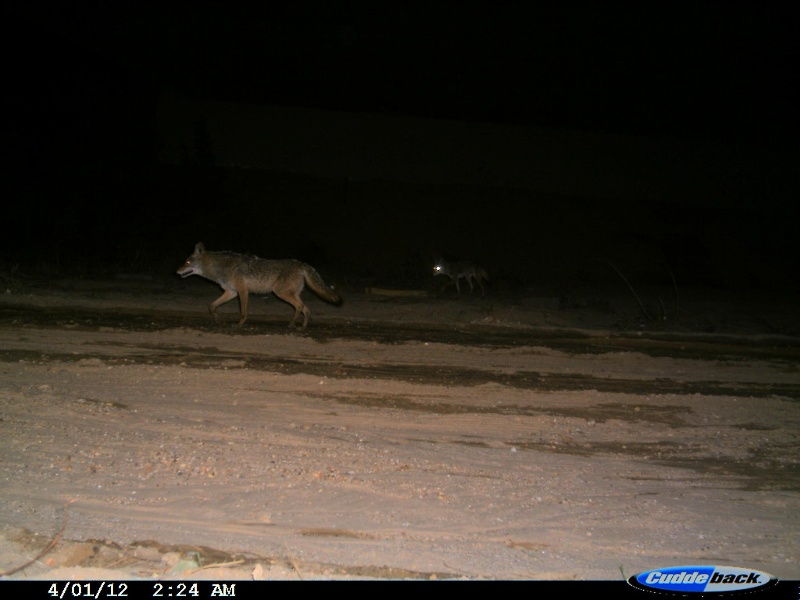coyote: (176, 240, 344, 328), (432, 260, 494, 291)
